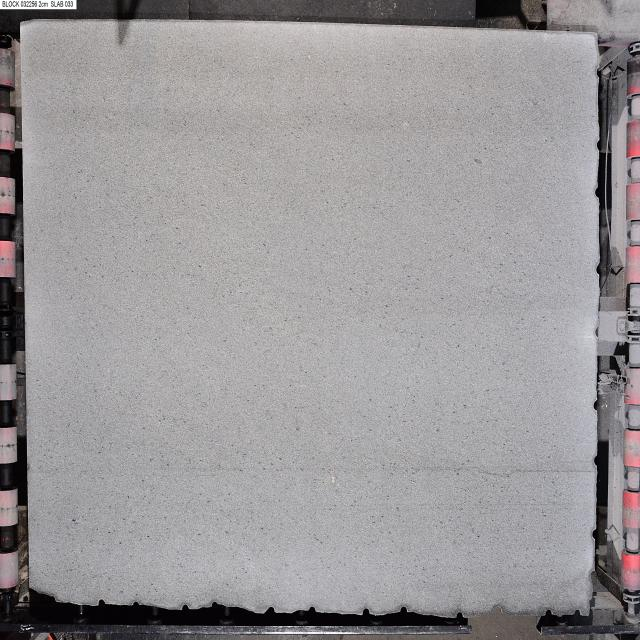chapa: (21, 20, 599, 616)
veio: (95, 596, 108, 612), (454, 609, 467, 624), (264, 604, 276, 618), (492, 604, 504, 618), (593, 451, 601, 471), (398, 604, 411, 616), (181, 602, 191, 616), (308, 604, 318, 618), (361, 606, 371, 620), (544, 606, 554, 620), (594, 396, 600, 412)
